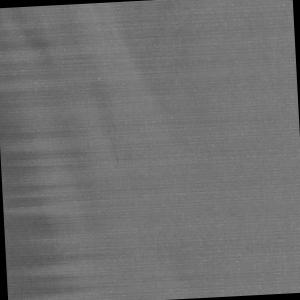Wrinkle: (1, 4, 93, 300)
